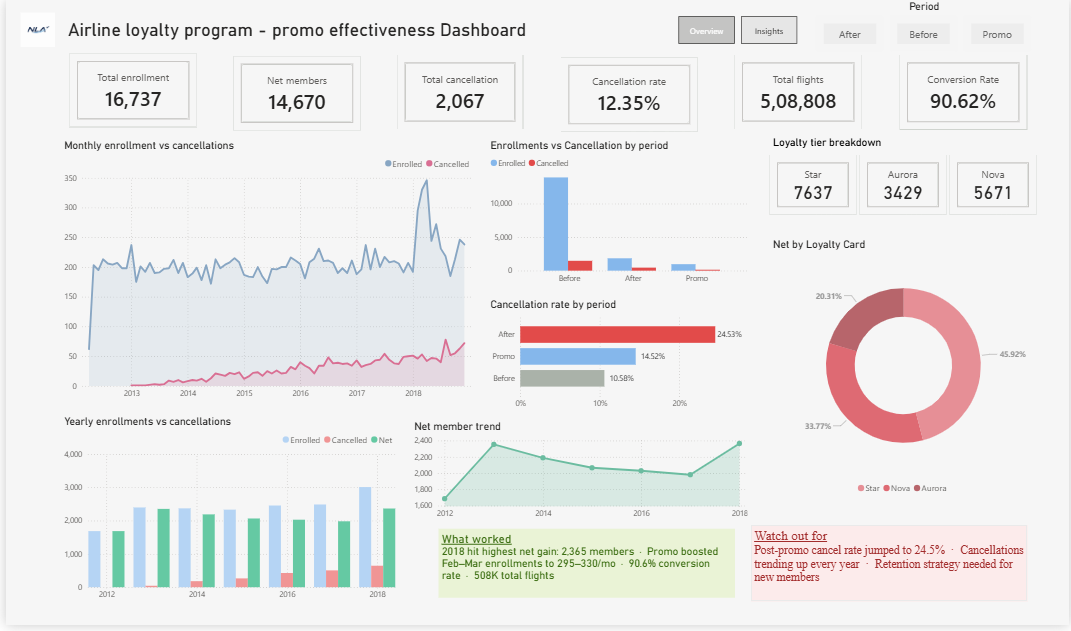

Layout of this report page (visuals, bound fields, positions):
{"tool":"powerbi","page":{"name":"Executive Summary","canvas":[1280,720],"ordinal":0},"visuals":[{"type":"image","box":[0,20.6,101.6,55.6],"z":0},{"type":"shape","box":[450.3,107.5,201.2,147.5],"z":0,"group":"g2"},{"type":"shape","box":[44,107.8,201.2,147.5],"z":0,"group":"g1"},{"type":"shape","box":[247.3,107.8,201.2,147.5],"z":0,"group":"g4"},{"type":"shape","box":[653.8,107.8,201.2,147.5],"z":0,"group":"g3"},{"type":"shape","box":[857,107.8,201.2,147.5],"z":0,"group":"g5"},{"type":"shape","box":[1060.3,107.8,201.2,147.5],"z":0,"group":"g6"},{"type":"textbox","box":[94.5,25.5,772.7,47.3],"z":1000},{"type":"cardVisual","fields":{"Data":["metrics.total cancellation"]},"box":[456.5,107.5,190,116.2],"z":1000,"group":"g2"},{"type":"cardVisual","fields":{"Data":["metrics.total enrollment"]},"box":[50.2,107.8,190,116.2],"z":1000,"group":"g1"},{"type":"cardVisual","fields":{"Data":["metrics.net members"]},"box":[253.5,107.8,190,116.2],"z":1000,"group":"g4"},{"type":"cardVisual","fields":{"Data":["metrics.Cancellation rate"]},"box":[660,107.8,190,116.2],"z":1000,"group":"g3"},{"type":"cardVisual","fields":{"Data":["metrics.total flights"]},"box":[863.2,107.8,190,116.2],"z":1000,"group":"g5"},{"type":"cardVisual","fields":{"Data":["metrics.Conversion Rate"]},"box":[1066.5,107.8,190,116.2],"z":1000,"group":"g6"},{"type":"group","id":"g1","title":"Group 1","box":[44,107.8,201.2,147.5],"z":2000},{"type":"areaChart","fields":{"Category":["Calendar.Date.Variation.Date Hierarchy.Year"],"Y":["metrics.total cancellation"]},"box":[460.3,181.3,168.8,63.8],"z":2000,"group":"g2"},{"type":"areaChart","fields":{"Y":["metrics.total enrollment"],"Category":["Calendar.Date.Variation.Date Hierarchy.Year"]},"box":[54,181.6,168.8,63.8],"z":2000,"group":"g1"},{"type":"areaChart","fields":{"Category":["Calendar.Date.Variation.Date Hierarchy.Year"],"Y":["metrics.Cancellation rate"]},"box":[663.8,181.6,168.8,63.8],"z":2000,"group":"g3"},{"type":"areaChart","fields":{"Category":["Calendar.Date.Variation.Date Hierarchy.Year"],"Y":["metrics.total flights"]},"box":[867,181.6,168.8,63.8],"z":2000,"group":"g5"},{"type":"areaChart","fields":{"Category":["Calendar.Date.Variation.Date Hierarchy.Year"],"Y":["metrics.Conversion Rate"]},"box":[1070.3,181.6,168.8,63.8],"z":2000,"group":"g6"},{"type":"areaChart","fields":{"Category":["Calendar.Date.Variation.Date Hierarchy.Year"],"Y":["metrics.net members"]},"box":[263.2,184.4,162.5,61.2],"z":2000,"group":"g4"},{"type":"group","id":"g2","title":"Group 1","box":[450.3,107.5,201.2,147.5],"z":3000},{"type":"group","id":"g3","title":"Group 1","box":[653.8,107.8,201.2,147.5],"z":4000},{"type":"group","id":"g4","title":"Group 1","box":[247.3,107.8,201.2,147.5],"z":5000},{"type":"group","id":"g5","title":"Group 1","box":[857,107.8,201.2,147.5],"z":6000},{"type":"group","id":"g6","title":"Group 1","box":[1060.3,107.8,201.2,147.5],"z":7000},{"type":"lineChart","title":"Monthly enrollment vs cancellations","fields":{"Y":["metrics.total enrollment","metrics.total cancellation"],"Category":["Calendar.Date.Variation.Date Hierarchy.Year","Calendar.Date.Variation.Date Hierarchy.Month"]},"box":[53.8,255,626.2,248.8],"z":8000},{"type":"clusteredColumnChart","title":"Yearly enrollments vs cancellations","fields":{"Y":["metrics.total enrollment","metrics.total cancellation","metrics.net members"],"Category":["Calendar.Date.Variation.Date Hierarchy.Year"]},"box":[53.8,512.5,626.2,193.8],"z":9000},{"type":"areaChart","title":"Net member trend","fields":{"Category":["Calendar.Date.Variation.Date Hierarchy.Year","Calendar.Date.Variation.Date Hierarchy.Quarter","Calendar.Date.Variation.Date Hierarchy.Month","Calendar.Date.Variation.Date Hierarchy.Day"],"Y":["metrics.net members"]},"box":[681.2,513.8,575,193.8],"z":10000},{"type":"donutChart","title":"Net by Loyalty Card","fields":{"Category":["Customer Loyalty History.Loyalty Card"],"Y":["metrics.net members"]},"box":[696.2,255,277.5,248.8],"z":11000},{"type":"textbox","box":[982.5,391.2,278.8,88.8],"z":12000},{"type":"textbox","box":[982.5,275,278.8,105],"z":13000},{"type":"bookmarkNavigator","box":[951.4,13.5,316.3,24.6],"z":14000},{"type":"advancedSlicerVisual","fields":{"Values":["Calendar.period type"]},"box":[1081.8,49.2,184.6,39.4],"z":15000},{"type":"advancedSlicerVisual","fields":{"Values":["Customer Loyalty History.Loyalty Card"]},"box":[886.2,49.2,184.6,39.4],"z":16000}]}

Visuals, with their boxes on the page's 1280x720 design canvas (x1, y1, x2, y2). These are canvas units, not pixel positions in the 1071x631 screenshot, which may show the page scaled, cropped or inside an application window:
image: 0/21/102/76
shape: 450/108/652/255
shape: 44/108/245/255
shape: 247/108/448/255
shape: 654/108/855/255
shape: 857/108/1058/255
shape: 1060/108/1262/255
textbox: 94/26/867/73
cardVisual - metrics.total cancellation: 456/108/646/224
cardVisual - metrics.total enrollment: 50/108/240/224
cardVisual - metrics.net members: 254/108/444/224
cardVisual - metrics.Cancellation rate: 660/108/850/224
cardVisual - metrics.total flights: 863/108/1053/224
cardVisual - metrics.Conversion Rate: 1066/108/1256/224
"Group 1" group: 44/108/245/255
areaChart - Calendar.Date.Variation.Date Hierarchy.Year x metrics.total cancellation: 460/181/629/245
areaChart - metrics.total enrollment x Calendar.Date.Variation.Date Hierarchy.Year: 54/182/223/245
areaChart - Calendar.Date.Variation.Date Hierarchy.Year x metrics.Cancellation rate: 664/182/833/245
areaChart - Calendar.Date.Variation.Date Hierarchy.Year x metrics.total flights: 867/182/1036/245
areaChart - Calendar.Date.Variation.Date Hierarchy.Year x metrics.Conversion Rate: 1070/182/1239/245
areaChart - Calendar.Date.Variation.Date Hierarchy.Year x metrics.net members: 263/184/426/246
"Group 1" group: 450/108/652/255
"Group 1" group: 654/108/855/255
"Group 1" group: 247/108/448/255
"Group 1" group: 857/108/1058/255
"Group 1" group: 1060/108/1262/255
"Monthly enrollment vs cancellations" lineChart: 54/255/680/504
"Yearly enrollments vs cancellations" clusteredColumnChart: 54/512/680/706
"Net member trend" areaChart: 681/514/1256/708
"Net by Loyalty Card" donutChart: 696/255/974/504
textbox: 982/391/1261/480
textbox: 982/275/1261/380
bookmarkNavigator: 951/14/1268/38
advancedSlicerVisual - Calendar.period type: 1082/49/1266/89
advancedSlicerVisual - Customer Loyalty History.Loyalty Card: 886/49/1071/89
